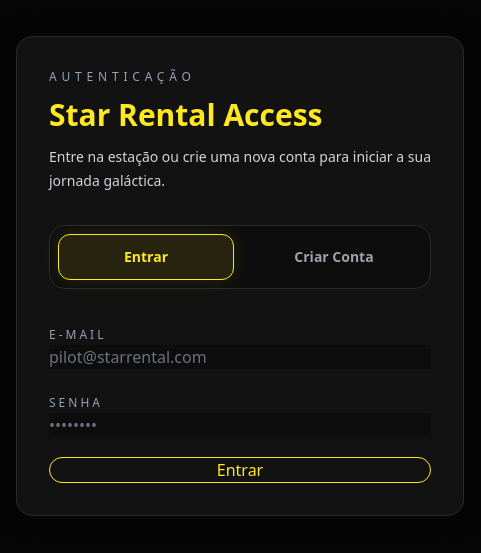
Scenario: Login › Validation › should show error when email format is invalid
Type "email-invalido" into the field labelled "E-mail".
click(240, 357); type("email-invalido")  # box [49,345,431,369]
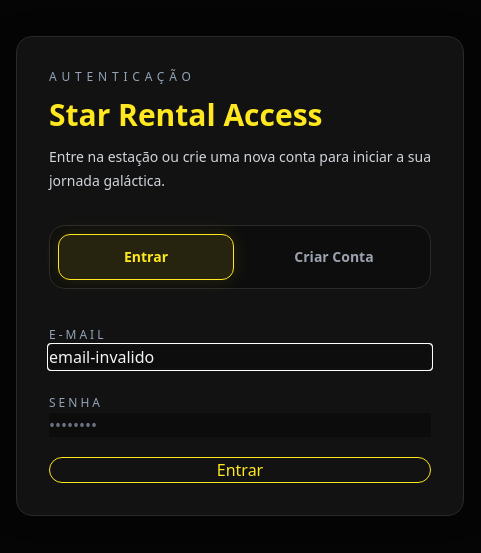
Click the submit button.
click(240, 470)  # box [49,457,431,483]
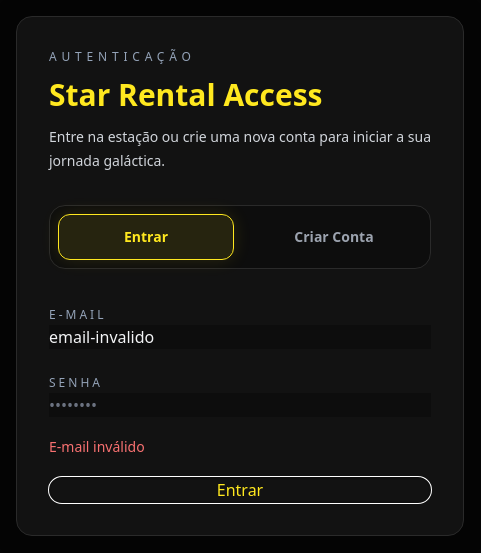
Now the text "E-mail inválido" is shown, box [49,437,145,456]
